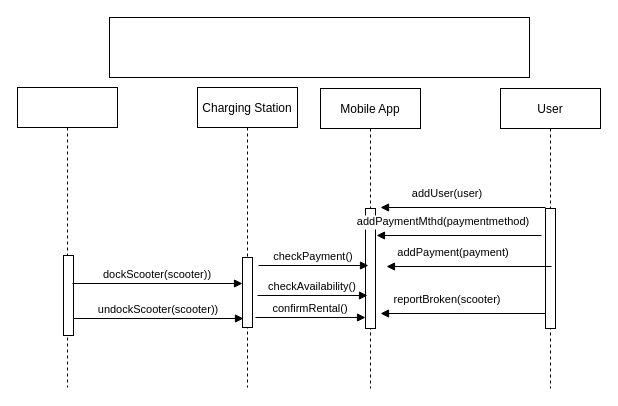
Image size: 618x406. Some labels were removed from this diagram. The shapes that lost their labels are listed below. From the top down, each one's centre as x and y in pixels, then its label:
At (319,47): "Scooter Sequence".
At (67,237): "Scooter".
